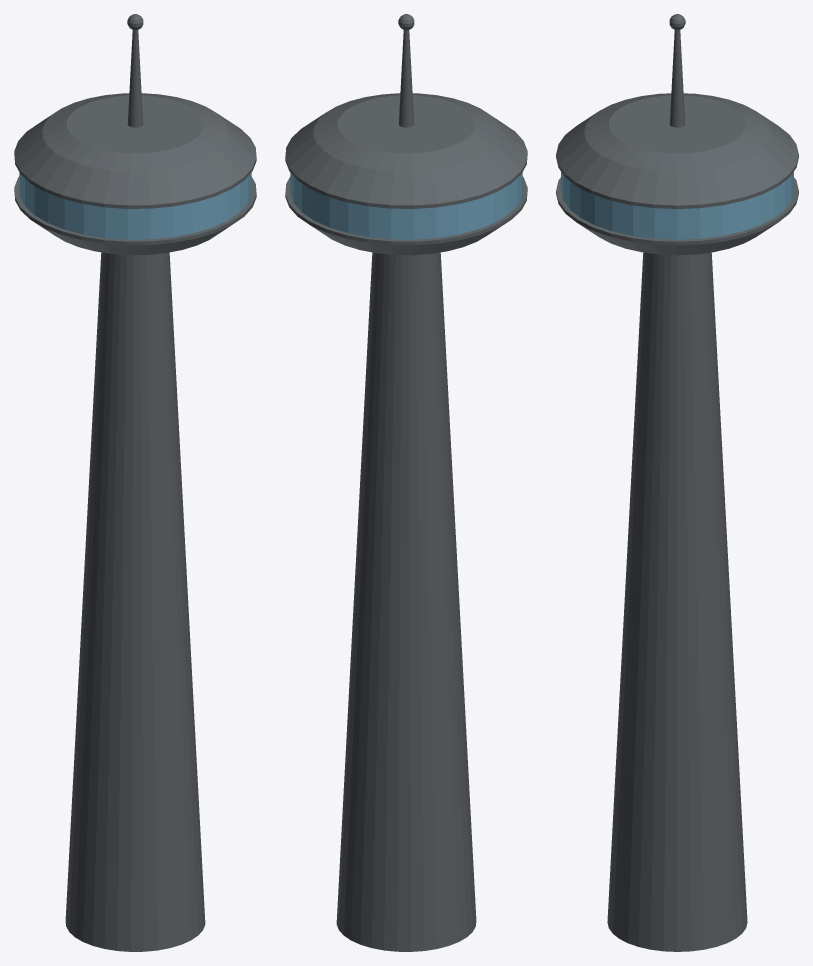
File: BackgroundBuilding_5.fbx
3 renders of one model, left to right at view 1: azimuth 30°, elevation 25°; view 2: azimuth 150°, elevation 25°; view 3: azimuth 270°, elevation 25°, orthographic.
Visible parts, largest first — view 1: Building_5; view 2: Building_5; view 3: Building_5.
Boxes of the visible parts, x1,y1,x2,y2 form: Building_5: (14, 14, 256, 951); Building_5: (285, 14, 527, 951); Building_5: (556, 14, 798, 951).
Bounding box in the file's own units: 190 × 783 × 190.
